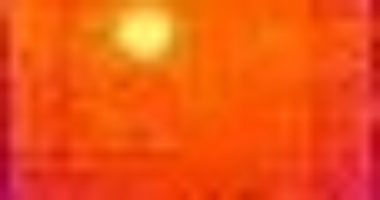Hotspot: (108, 1, 176, 60)
